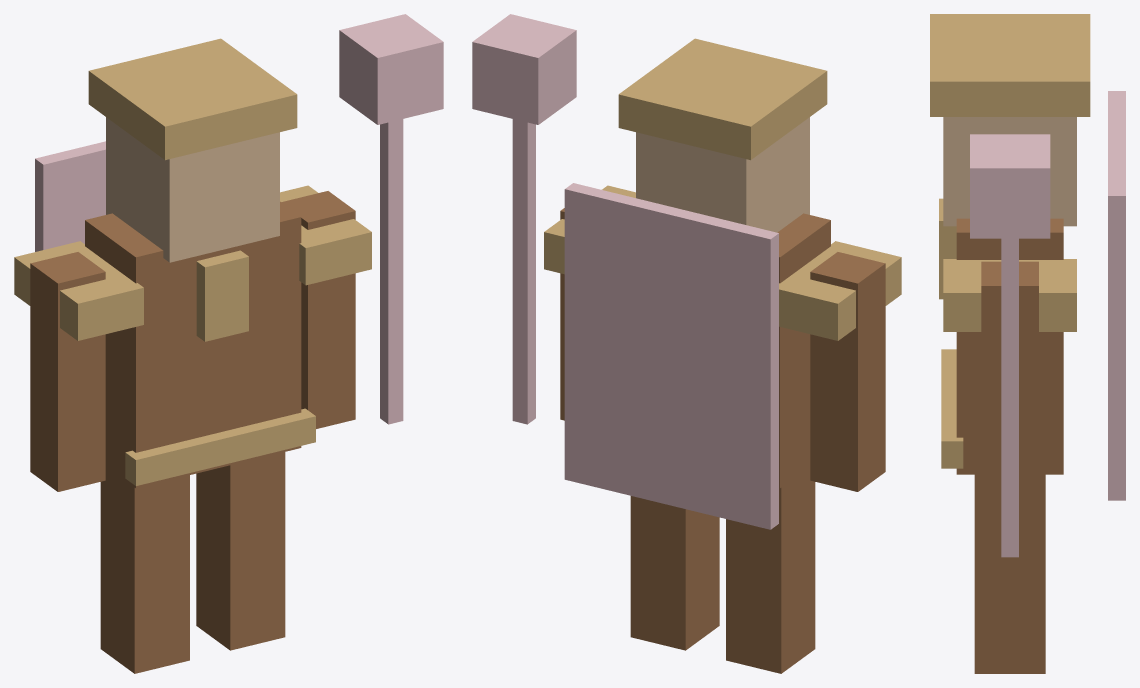
File: 15_draven_riftwalker_smith_from_war.glb
3 views of the same model, side by side, from view 1: azimuth 30°, elevation 25°; view 2: azimuth 150°, elevation 25°; view 3: azimuth 270°, elevation 25° (orthographic). The views are drawn at different scales.
Visible parts, largest first — view 1: Draven Riftwalker, Smith from War; view 2: Draven Riftwalker, Smith from War; view 3: Draven Riftwalker, Smith from War.
Part boxes in pixels (<box>): Draven Riftwalker, Smith from War: <box>14,14,443,673</box>; Draven Riftwalker, Smith from War: <box>472,14,901,673</box>; Draven Riftwalker, Smith from War: <box>930,14,1125,673</box>.
Bounding box in the file's own units: 0.9883 × 1.39 × 0.4201.
